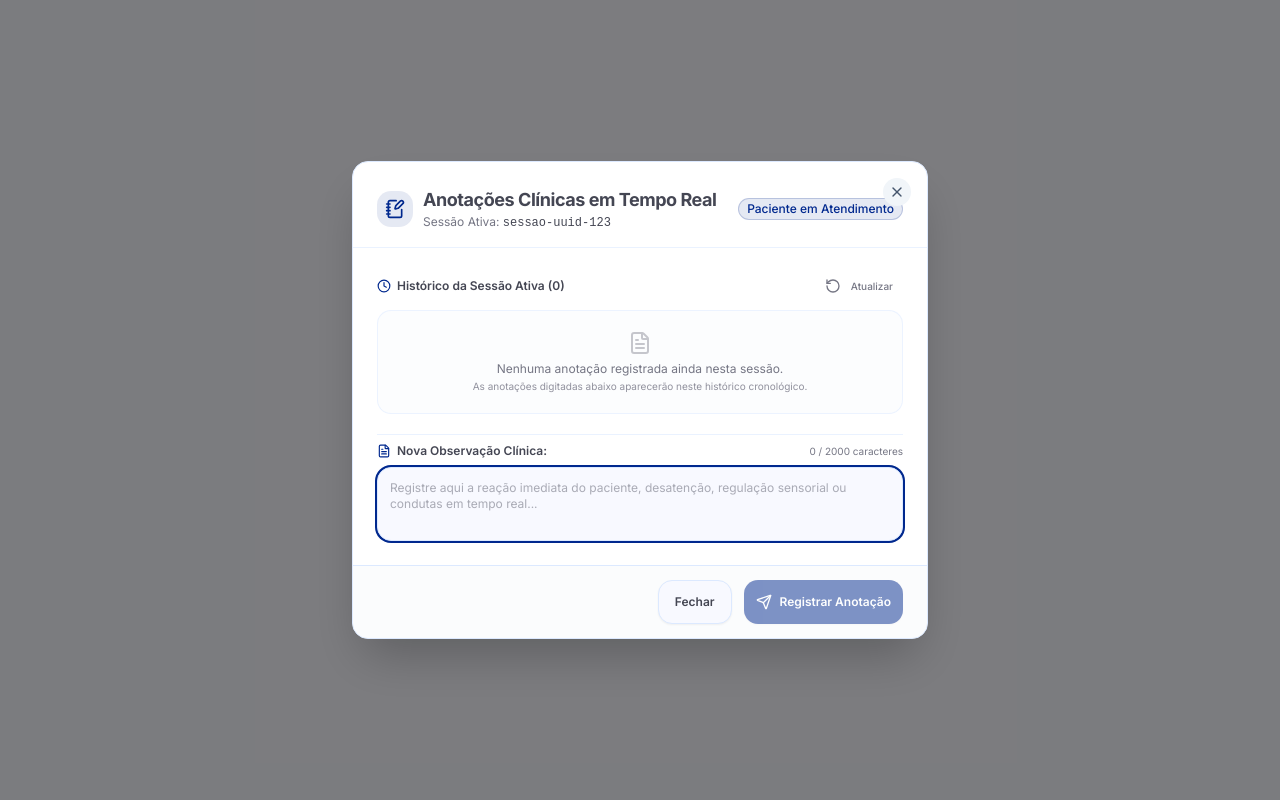
it: Feature: Modal de Anotação Clínica em Tempo Real no Cockpit de Sessão Ativa › 5. deve validar tamanho mínimo de 3 caracteres e desabilitar botão de salvar
The image size is (1280, 800).
Check: the button with test id "botao-salvar-anotacao-modal" is disabled, box [744,580,903,624]
Menos de 3 caracteres: exibe aviso e continua desabilitado
Replace the text in the text box with test id "textarea-anotacao-sessao" with "Oi" at (640, 504), box [377,467,903,541]
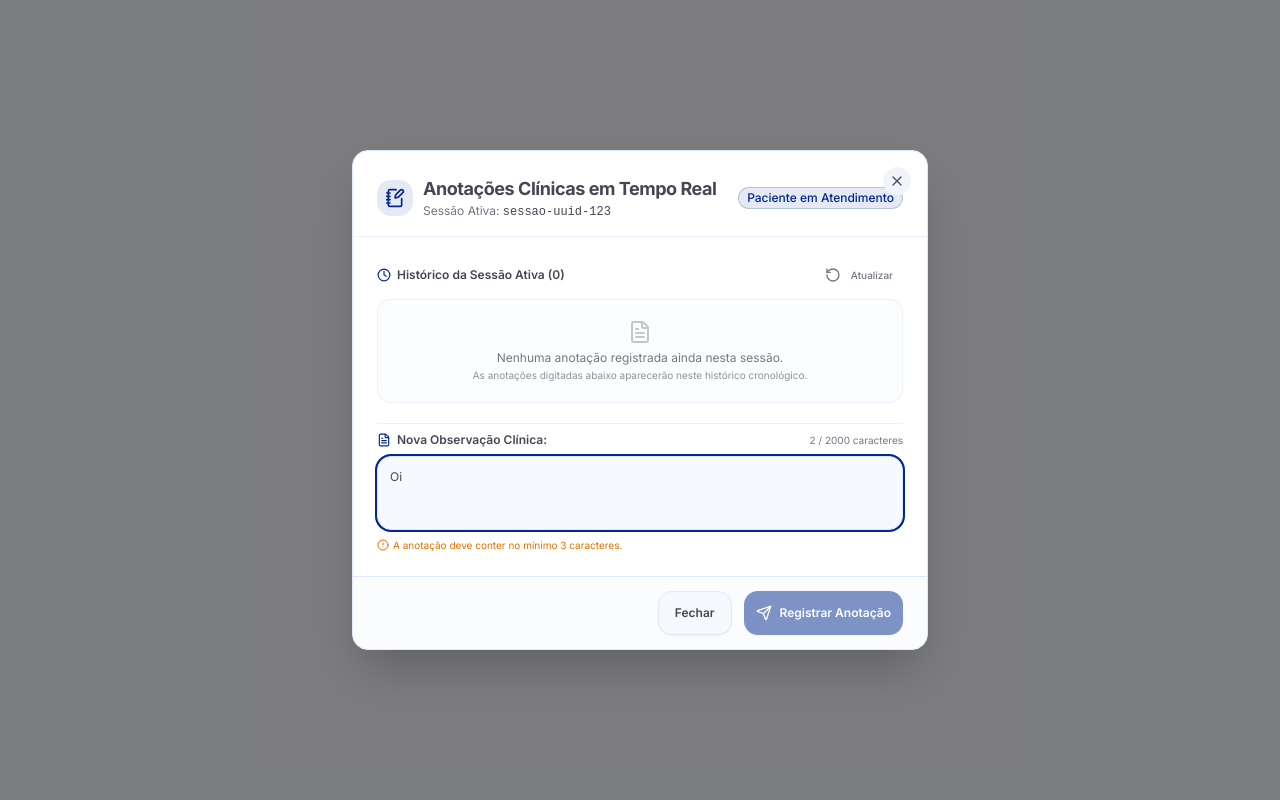
Check: the button with test id "botao-salvar-anotacao-modal" is disabled, box [744,591,903,635]
Check: the element with test id "aviso-validacao-tamanho" is shown, box [377,539,622,551]
Com 3 ou mais: habilita
Replace the text in the text box with test id "textarea-anotacao-sessao" with "Olá" at (640, 493), box [377,456,903,530]
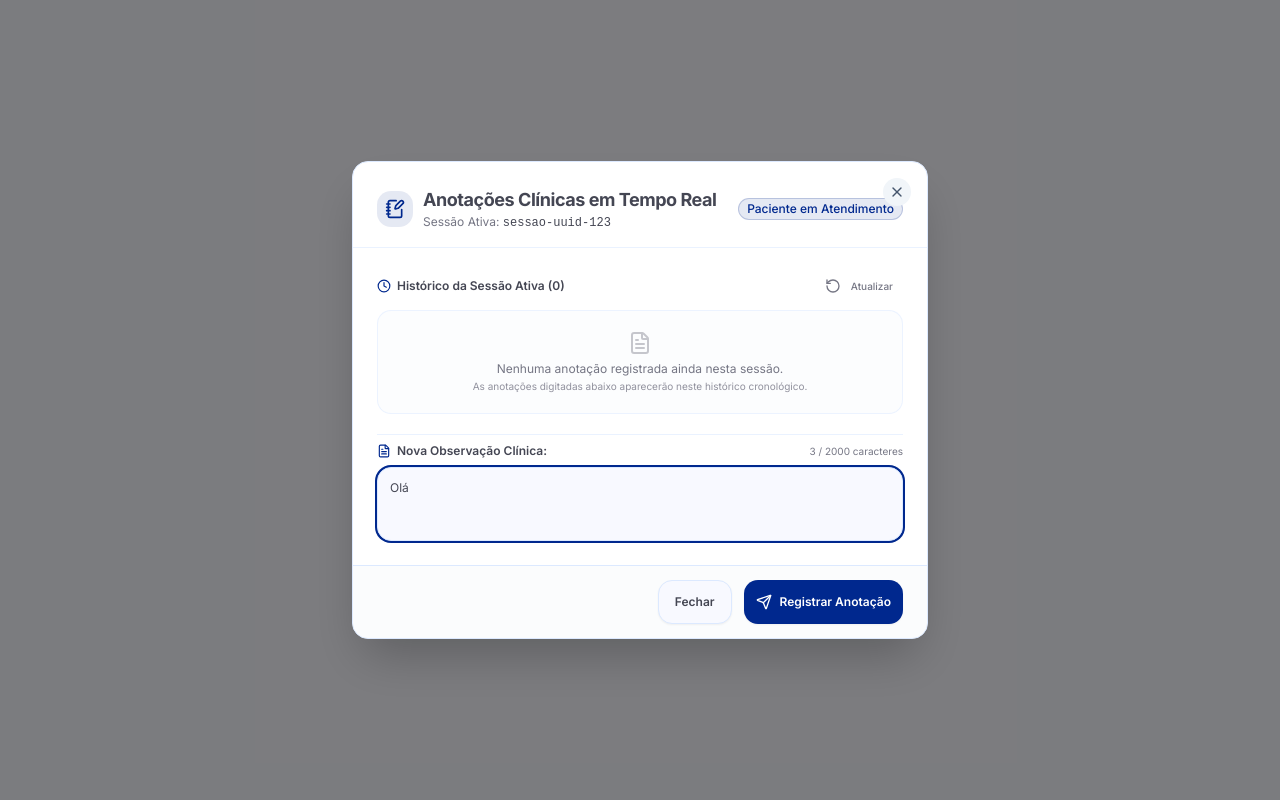
Check: the element with test id "aviso-validacao-tamanho" is gone
Check: the button with test id "botao-salvar-anotacao-modal" is enabled, box [744,580,903,624]
